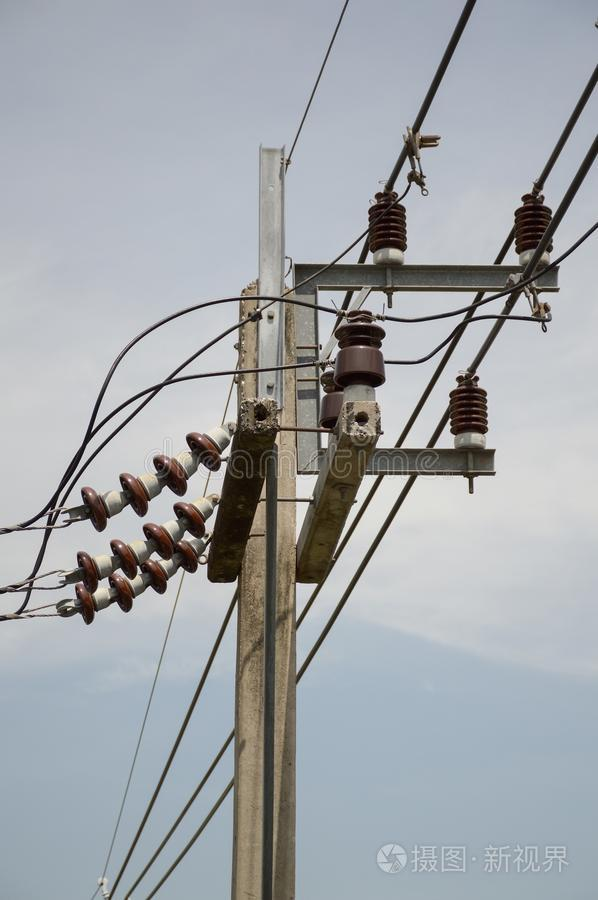insulator: (81, 430, 221, 535), (74, 502, 204, 590), (73, 544, 202, 626)
